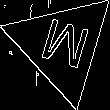M_S: (33, 14, 91, 76)
